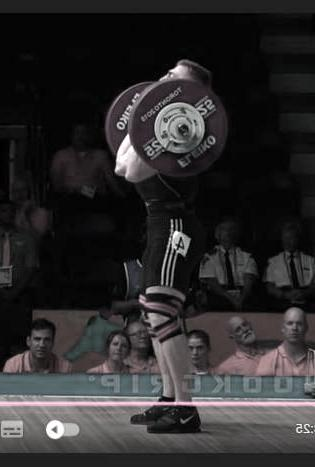Barbell: (173, 124, 189, 138)
